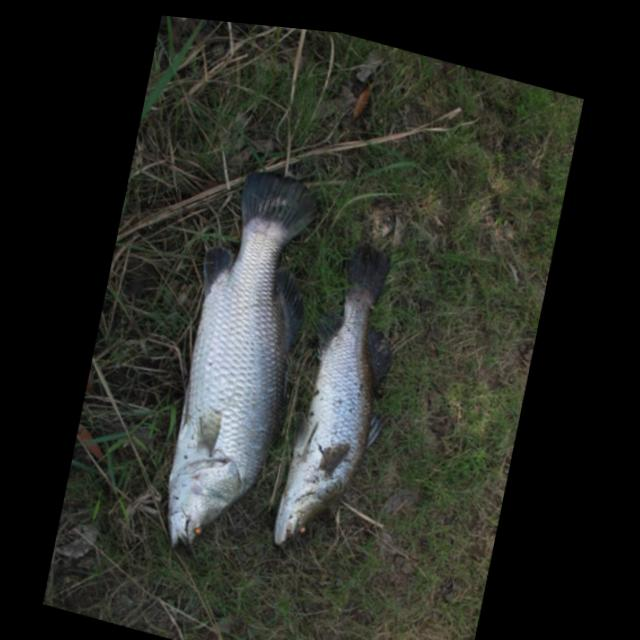Seabass: (148, 151, 331, 578), (267, 227, 420, 573)
